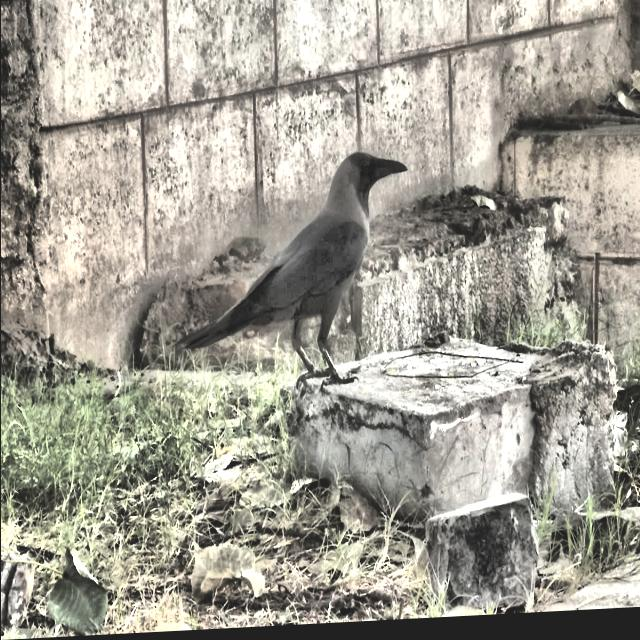crow: (178, 127, 446, 422)
